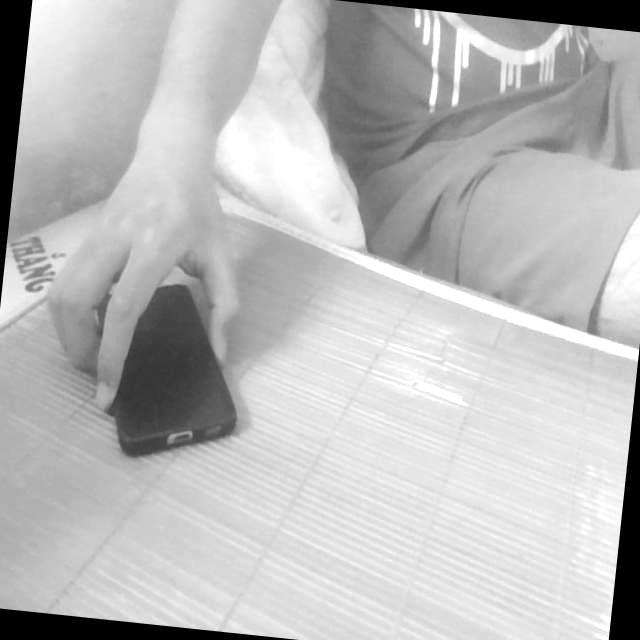phone: (74, 248, 266, 487)
